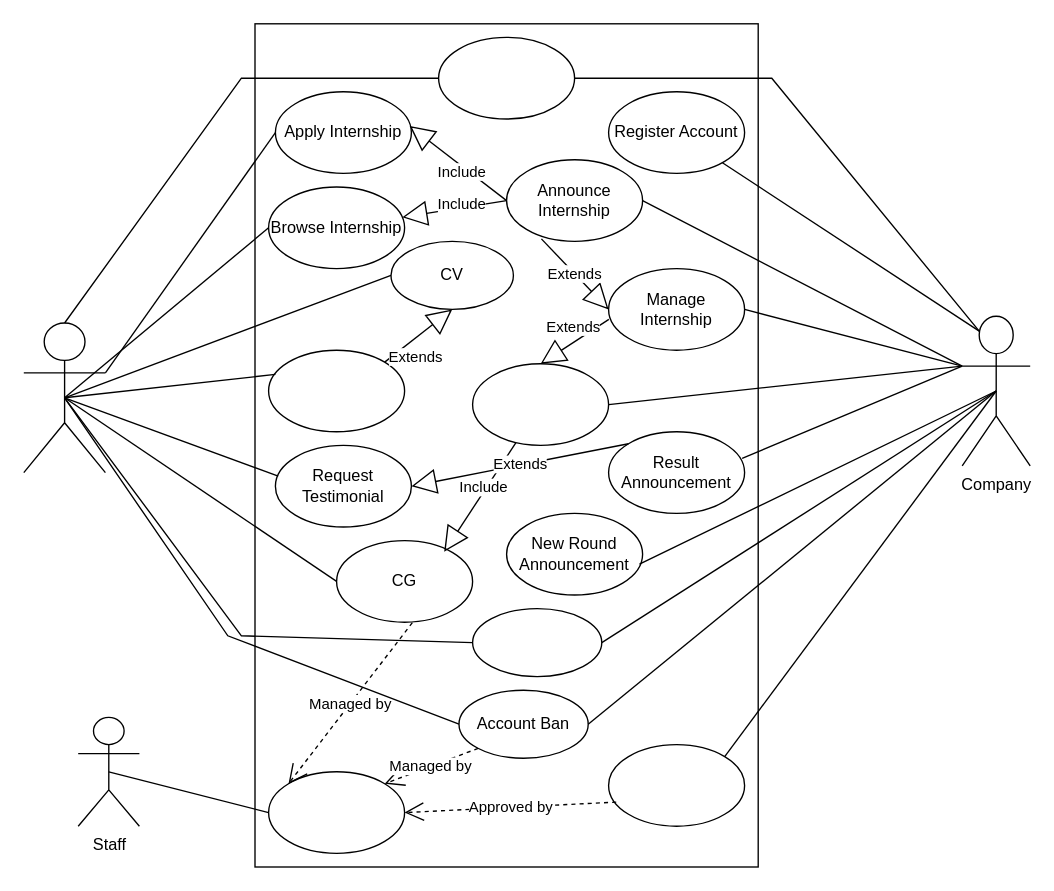
Image size: 1054x891. Some labels were removed from this diagram. The box of each missing label's shape, as (x1, y1, x2, y2) in pixels:
CG Cut: (471, 362, 609, 445)
Login: (437, 36, 575, 119)
Placement Staff: (267, 770, 405, 853)
Portfolio Generation: (267, 349, 405, 432)
Querries: (471, 607, 602, 677)
Request Student Ban: (607, 743, 745, 826)
Student: (22, 322, 105, 473)
